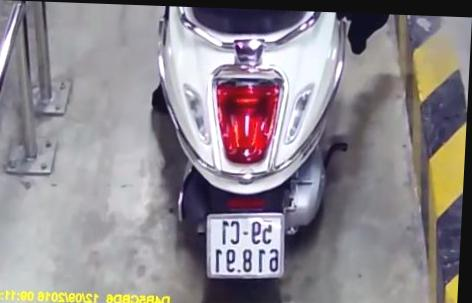License_Plate: (197, 205, 292, 288)
